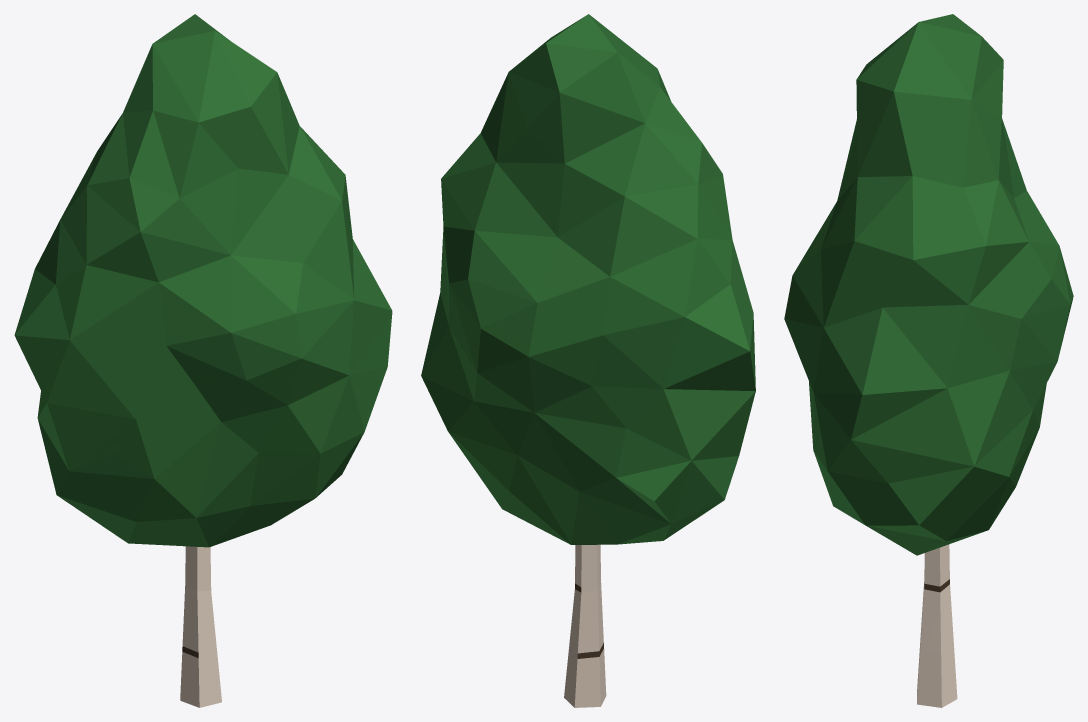
The model's file is tree-birch.glb.
3 views of the same model, side by side, from view 1: azimuth 30°, elevation 25°; view 2: azimuth 150°, elevation 25°; view 3: azimuth 270°, elevation 25° (orthographic).
Visible parts, largest first — view 1: tree-birch; view 2: tree-birch; view 3: tree-birch.
Boxes of the visible parts, left/top/right/bottom form: tree-birch: left=14, top=14, right=392, bottom=707; tree-birch: left=421, top=14, right=755, bottom=707; tree-birch: left=784, top=14, right=1073, bottom=707.
Bounding box in the file's own units: 3.48 × 6.77 × 2.61.
Materials: 1 (1 with a texture image).
